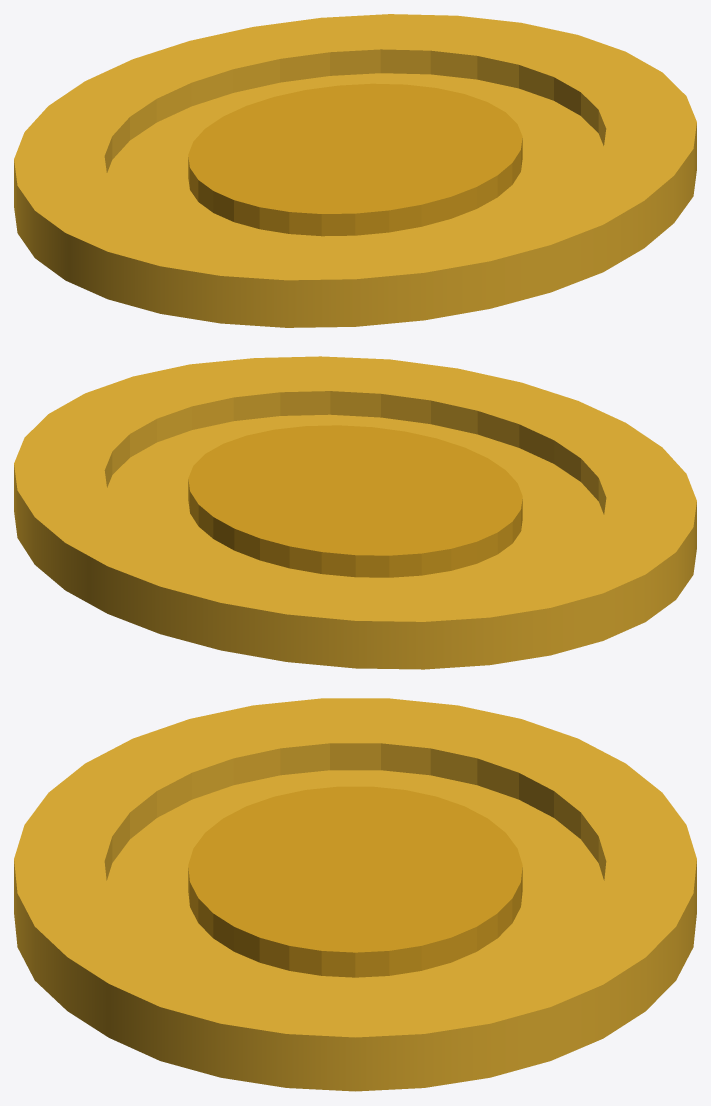
File: coin2.fbx
3 views of the same model, one above another, from view 1: azimuth 30°, elevation 25°; view 2: azimuth 150°, elevation 25°; view 3: azimuth 270°, elevation 25° (orthographic). The views are drawn at different scales.
Parts seen in each view (by area): view 1: Cylinder001; view 2: Cylinder001; view 3: Cylinder001.
Part boxes in pixels (box(x1,y1,x2,y2)): Cylinder001: box(14, 14, 696, 327); Cylinder001: box(14, 356, 696, 669); Cylinder001: box(14, 698, 696, 1091).
Size of the model in its own units: 22.82 by 1.69 by 19.43.
